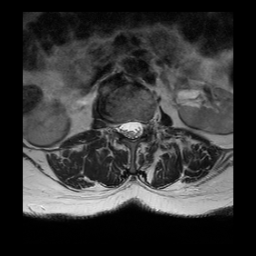CCS_normal: (128, 115, 135, 147)
LFS_normal: (143, 117, 152, 140)
LLS_normal: (135, 117, 142, 140)
RFS_normal: (111, 117, 120, 139)
RLS_normal: (119, 117, 128, 140)
